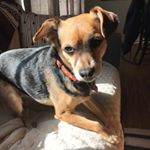puppy: (32, 3, 126, 149)
